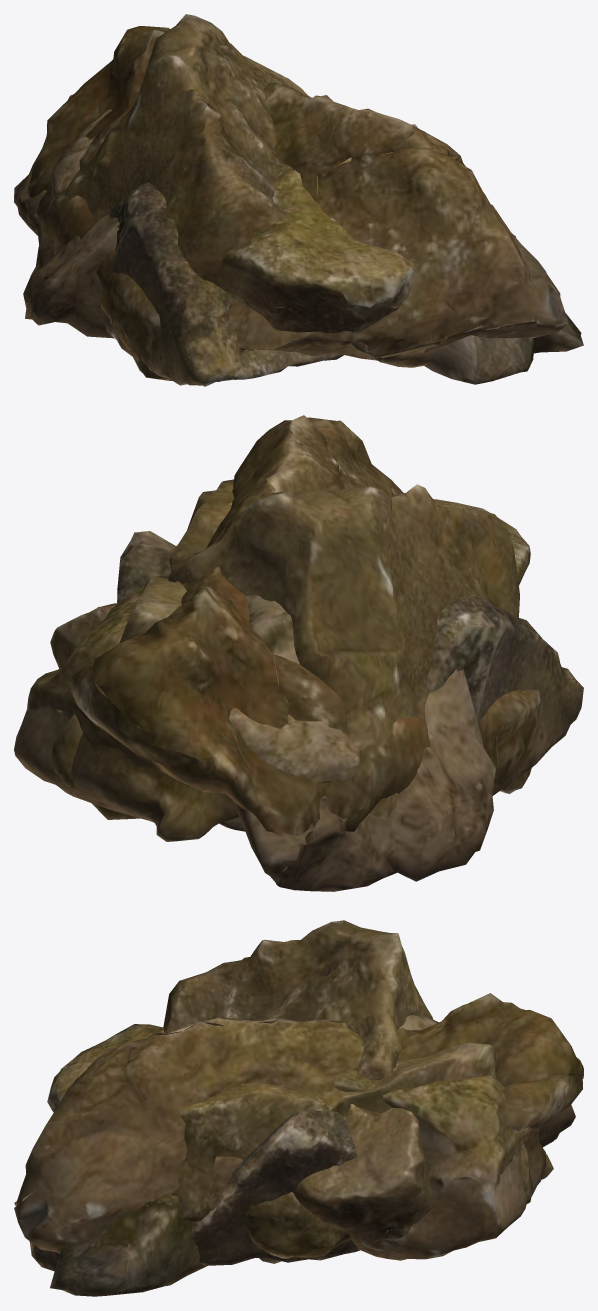
The model's file is rock_moss.glb.
The picture shows the model from 3 angles, top to bottom: view 1: azimuth 30°, elevation 25°; view 2: azimuth 150°, elevation 25°; view 3: azimuth 270°, elevation 25°; orthographic projection. The views are drawn at different scales.
Visible parts, largest first — view 1: rock_01, rock_04, rock_05, rock_03, rock_02, rock_06; view 2: rock_01, rock_04, rock_02, rock_05, rock_03, rock_06; view 3: rock_01, rock_04, rock_05, rock_06, rock_02, rock_03.
Part boxes in pixels (x1=…): rock_01: x1=26, y1=26, x2=568, y2=380; rock_04: x1=54, y1=14, x2=319, y2=299; rock_05: x1=51, y1=108, x2=414, y2=356; rock_03: x1=105, y1=124, x2=426, y2=386; rock_02: x1=14, y1=106, x2=583, y2=384; rock_06: x1=243, y1=55, x2=434, y2=367; rock_01: x1=66, y1=415, x2=540, y2=847; rock_04: x1=50, y1=484, x2=519, y2=820; rock_02: x1=232, y1=549, x2=495, y2=891; rock_05: x1=14, y1=499, x2=530, y2=841; rock_03: x1=117, y1=531, x2=583, y2=831; rock_06: x1=51, y1=472, x2=497, y2=819; rock_01: x1=14, y1=993, x2=583, y2=1263; rock_04: x1=163, y1=920, x2=432, y2=1251; rock_05: x1=47, y1=1024, x2=553, y2=1260; rock_06: x1=100, y1=1042, x2=533, y2=1258; rock_02: x1=29, y1=1013, x2=575, y2=1296; rock_03: x1=191, y1=1018, x2=359, y2=1265.
Size of the model in its own units: 2.65 by 1.77 by 3.38.
Materials: 1 (1 with a texture image).
